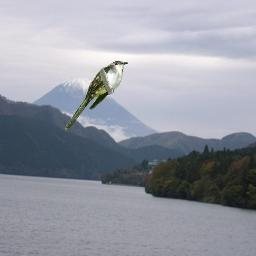Cuckoo: (64, 60, 128, 132)
